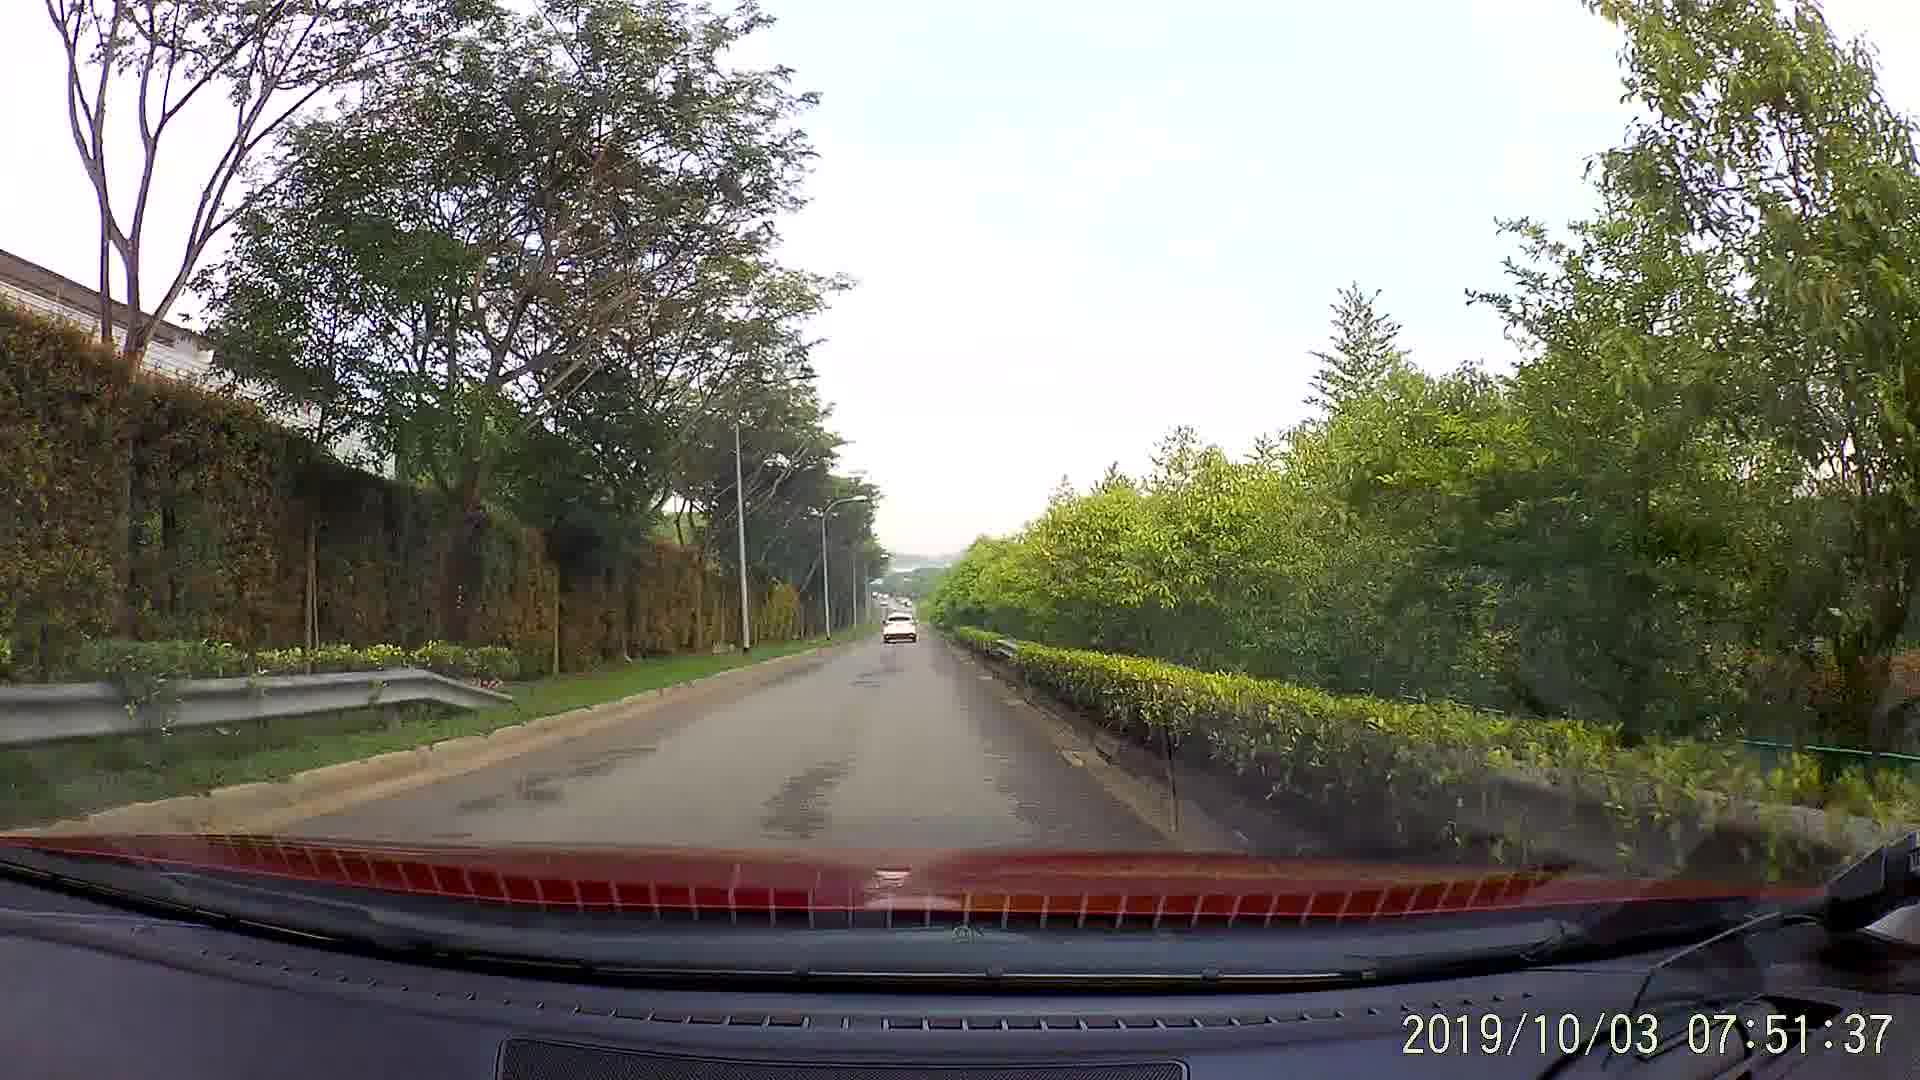car: (881, 616, 918, 646)
